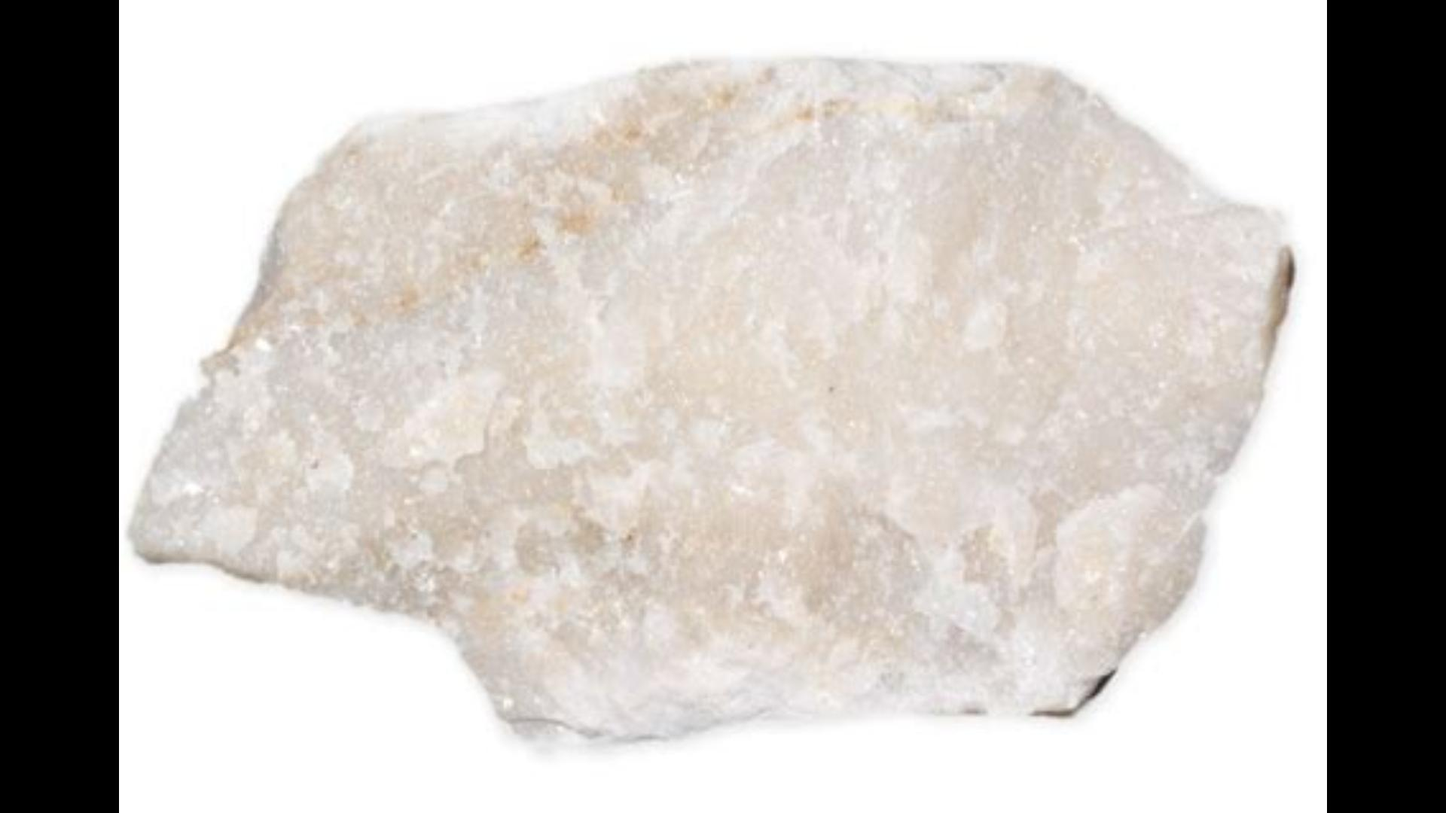rock: (129, 61, 1289, 724)
